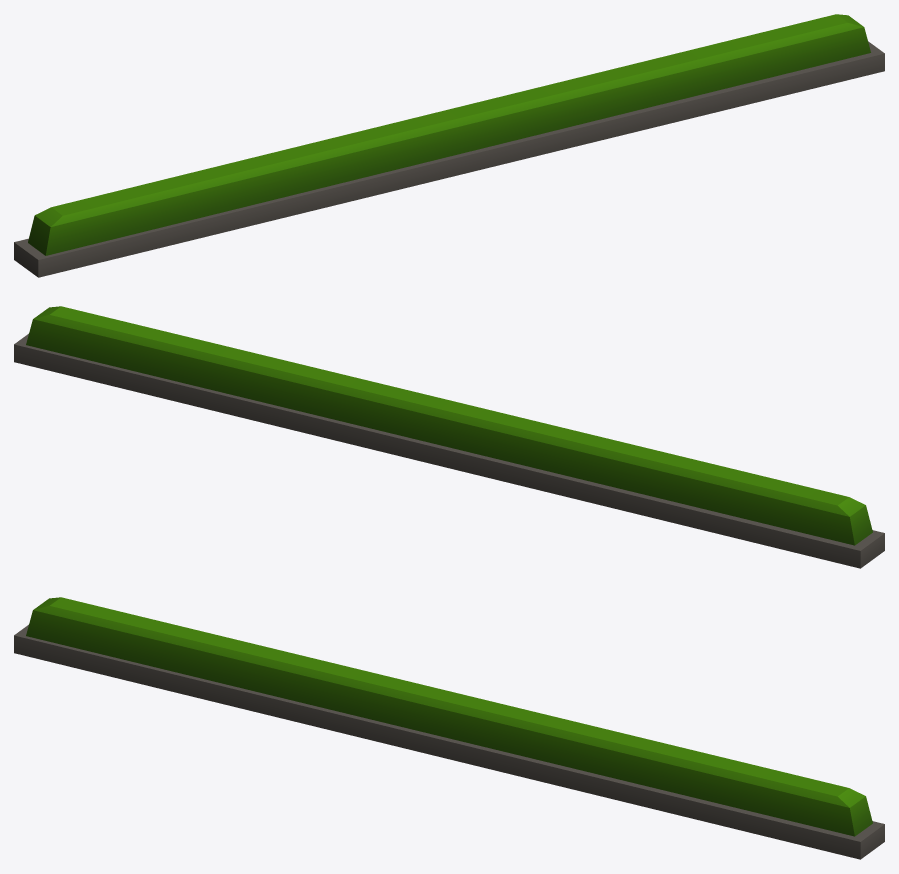
The model's file is Env_Block_A.fbx.
3 renders of one model, top to bottom at view 1: azimuth 30°, elevation 25°; view 2: azimuth 150°, elevation 25°; view 3: azimuth 330°, elevation 25°, orthographic.
Parts seen in each view (by area): view 1: Env_Block_A; view 2: Env_Block_A; view 3: Env_Block_A.
Boxes of the visible parts, x1,y1,x2,y2 form: Env_Block_A: (14,14,884,277); Env_Block_A: (14,306,884,568); Env_Block_A: (14,597,884,859).
Bounding box in the file's own units: 2000 × 114 × 100.
